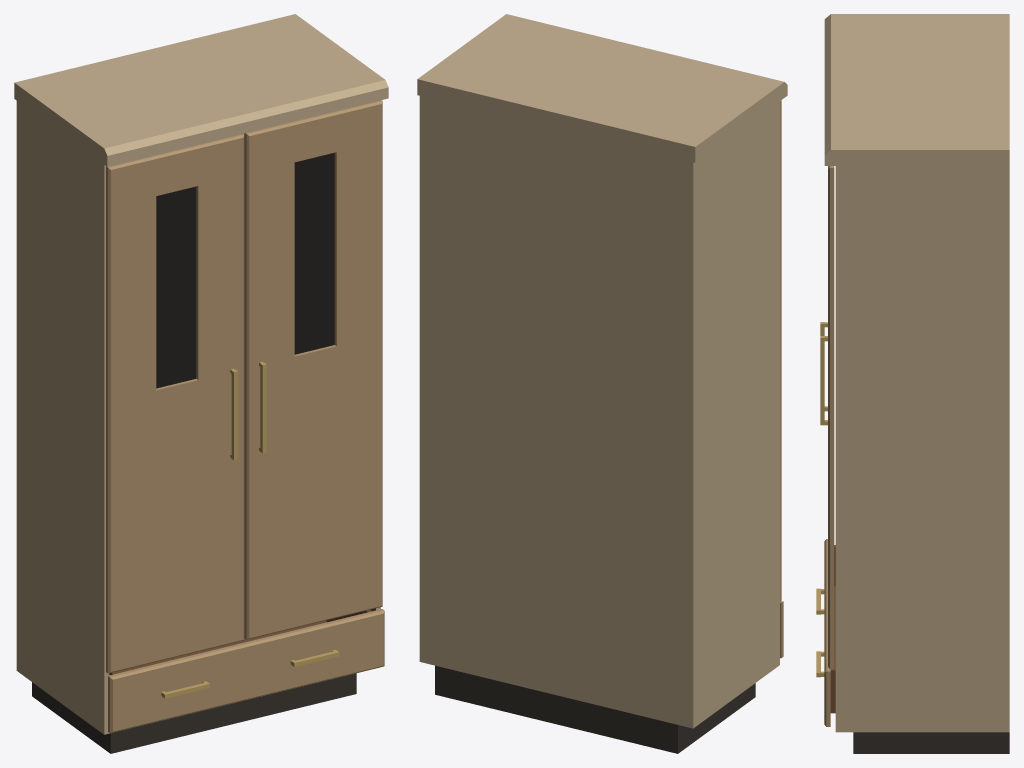
The model's file is wardrobe-f3b2f2.glb.
3 views of the same model, side by side, from view 1: azimuth 30°, elevation 25°; view 2: azimuth 150°, elevation 25°; view 3: azimuth 270°, elevation 25° (orthographic).
Visible parts, largest first — view 1: wardrobe, door-r, door-l, drawer; view 2: wardrobe, door-l; view 3: wardrobe, door-r, drawer, door-l.
Boxes of the visible parts, left/top/right/bottom form: wardrobe: left=14, top=14, right=388, bottom=753; door-r: left=230, top=100, right=382, bottom=639; door-l: left=106, top=134, right=266, bottom=673; drawer: left=108, top=609, right=384, bottom=733; wardrobe: left=417, top=14, right=787, bottom=753; door-l: left=780, top=100, right=781, bottom=601; wardrobe: left=824, top=14, right=1009, bottom=753; door-r: left=820, top=166, right=834, bottom=669; drawer: left=816, top=539, right=835, bottom=726; door-l: left=820, top=336, right=827, bottom=425.
Bounding box in the file's own units: 1 × 2.1 × 0.5997.
